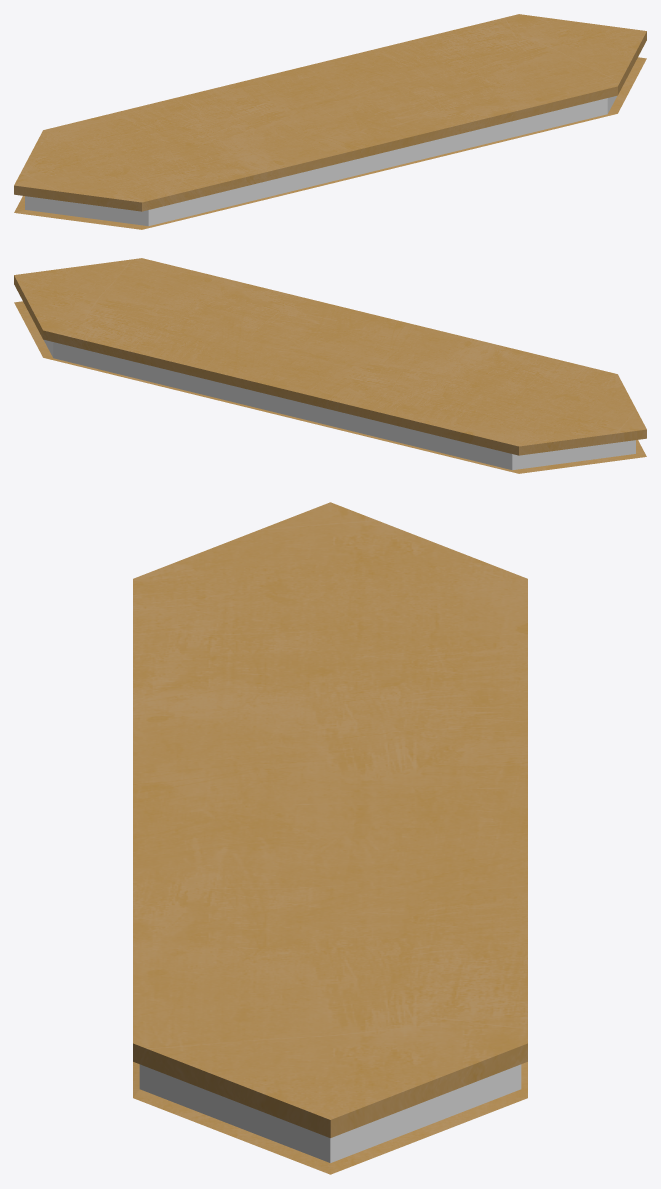
The model's file is Table.fbx.
The picture shows the model from 3 angles, top to bottom: view 1: azimuth 30°, elevation 25°; view 2: azimuth 150°, elevation 25°; view 3: azimuth 270°, elevation 25°; orthographic projection. The views are drawn at different scales.
Visible parts, largest first — view 1: Table; view 2: Table; view 3: Table.
Part boxes in pixels (<box>): Table: <box>14,14,646,229</box>; Table: <box>14,258,646,473</box>; Table: <box>133,502,527,1174</box>.
Bounding box in the file's own units: 1999 × 82.58 × 541.
